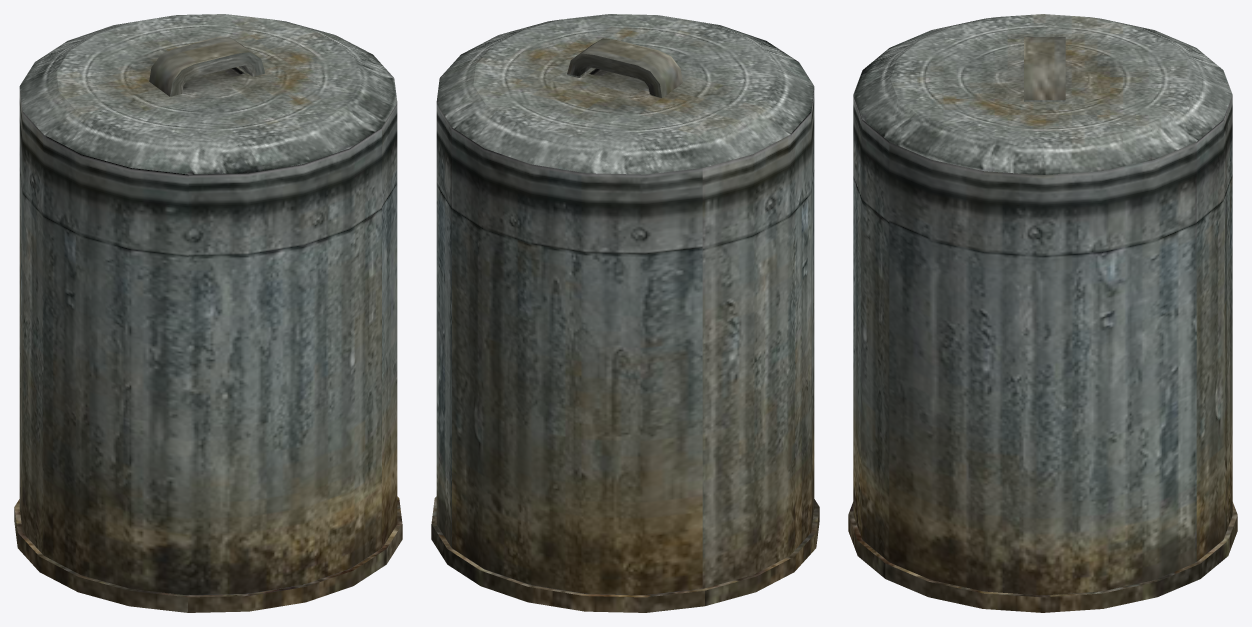
File: M_3_trashcan.fbx
The picture shows the model from 3 angles, left to right: view 1: azimuth 30°, elevation 25°; view 2: azimuth 150°, elevation 25°; view 3: azimuth 270°, elevation 25°; orthographic projection.
Parts seen in each view (by area): view 1: pCylinder1, pCube3; view 2: pCylinder1, pCube3; view 3: pCylinder1, pCube3.
Boxes of the visible parts, box(x1,y1,x2,y2) form: pCylinder1: box(14, 14, 402, 612); pCube3: box(149, 37, 264, 96); pCylinder1: box(431, 14, 819, 612); pCube3: box(567, 38, 682, 97); pCylinder1: box(848, 14, 1237, 612); pCube3: box(1024, 37, 1065, 101).
Bounding box in the file's own units: 6.04 × 8.19 × 6.04.
Materials: 1 (1 with a texture image).
